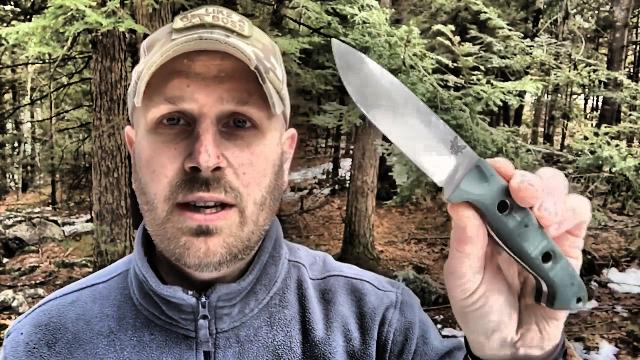knife: (327, 32, 543, 266)
